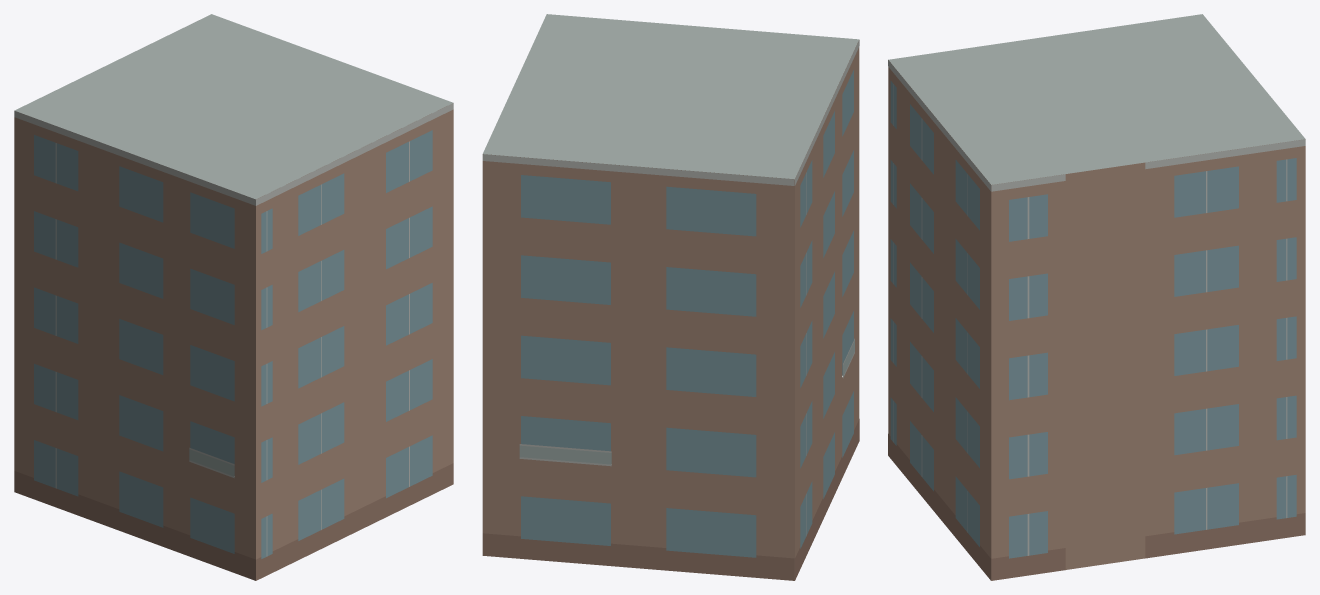
Rendered from survey-upis-32850587.glb.
The picture shows the model from 3 angles, left to right: view 1: azimuth 30°, elevation 25°; view 2: azimuth 150°, elevation 25°; view 3: azimuth 270°, elevation 25°; orthographic projection. The views are drawn at different scales.
Visible parts, largest first — view 1: survey-upis-32850587.tmp; view 2: survey-upis-32850587.tmp; view 3: survey-upis-32850587.tmp.
Part boxes in pixels (<box>): survey-upis-32850587.tmp: <box>14,14,453,580</box>; survey-upis-32850587.tmp: <box>482,14,859,580</box>; survey-upis-32850587.tmp: <box>888,14,1305,580</box>.
Size of the model in its own units: 13.2 by 14.25 by 13.63.
